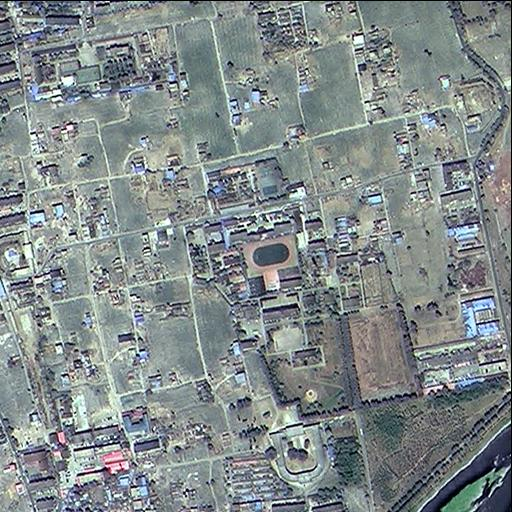school: (205, 194, 329, 302), (200, 153, 289, 216)
